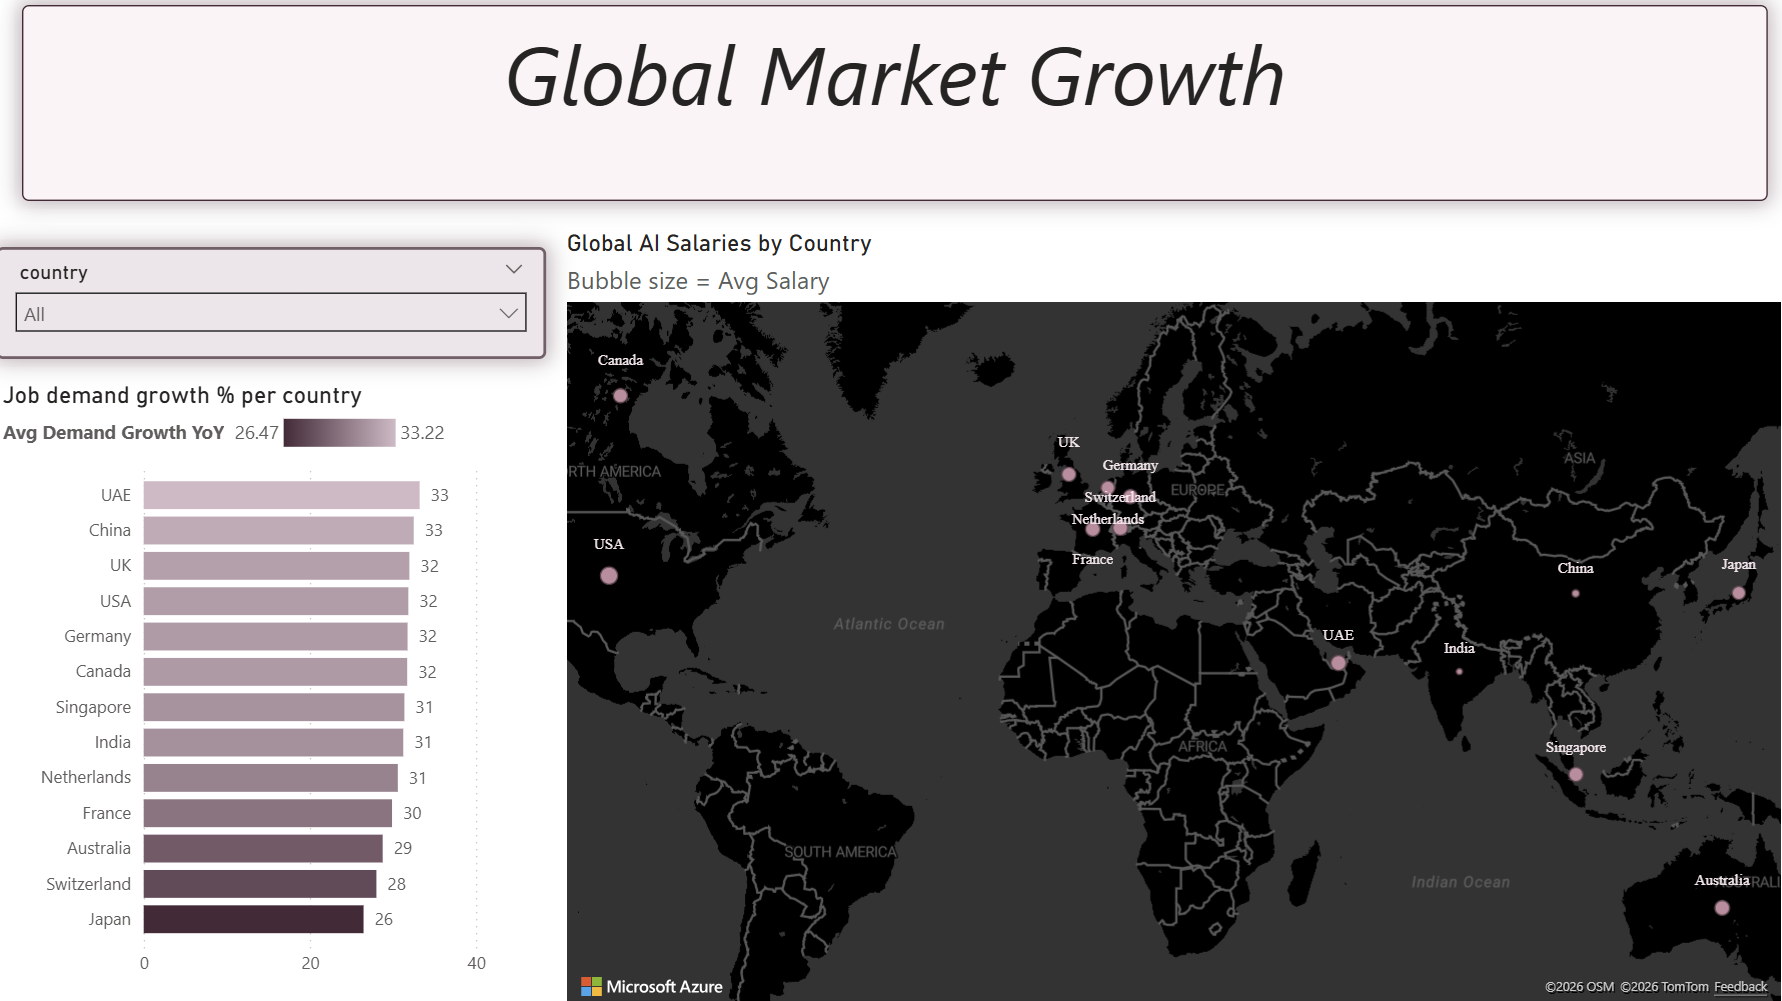

Layout of this report page (visuals, bound fields, positions):
{"tool":"powerbi","page":{"name":"Global Map","canvas":[1280,720],"ordinal":2},"visuals":[{"type":"azureMap","title":"Global AI Salaries by Country","fields":{"Category":["dim_country.country"],"Size":["MeasuresTABLE.Avg Salary"]},"box":[402.9,165.7,877.1,557.1],"z":0},{"type":"clusteredBarChart","title":"Job demand growth % per country","fields":{"Category":["dim_country.country"],"Y":["MeasuresTABLE.Avg Demand Growth YoY"]},"box":[0,274.3,402.9,447.1],"z":1000},{"type":"slicer","fields":{"Values":["dim_country.country"]},"box":[0,178.6,392.9,80],"z":2000},{"type":"textbox","box":[19,6,1247,140],"z":2001}]}

Visuals, with their boxes in screenshot pixels (x1, y1, x2, y2), scaled from the page's 1280x720 canvas onto the 1782x1001 screenshot:
"Global AI Salaries by Country" azureMap: detection(561, 230, 1781, 1000)
"Job demand growth % per country" clusteredBarChart: detection(0, 381, 561, 1000)
slicer - dim_country.country: detection(0, 248, 547, 360)
textbox: detection(26, 8, 1763, 203)
